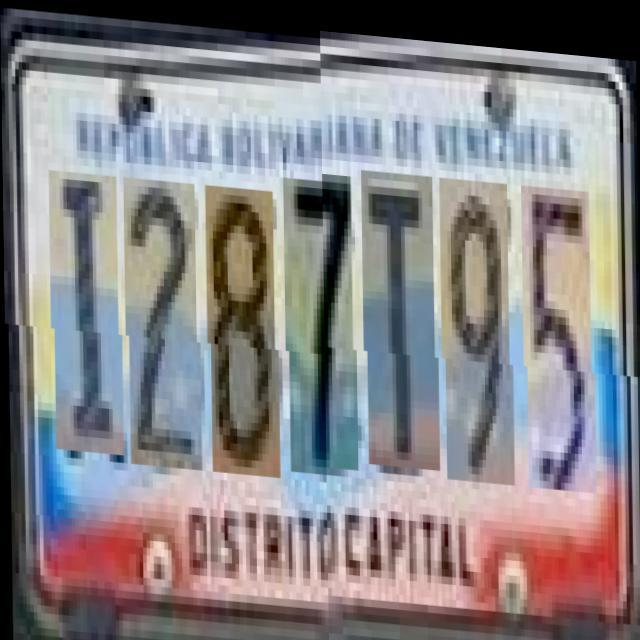2: (127, 175, 200, 466)
5: (524, 182, 596, 488)
7: (286, 172, 357, 471)
8: (208, 181, 279, 472)
9: (442, 177, 514, 482)
I: (51, 170, 122, 453)
T: (364, 170, 438, 470)
